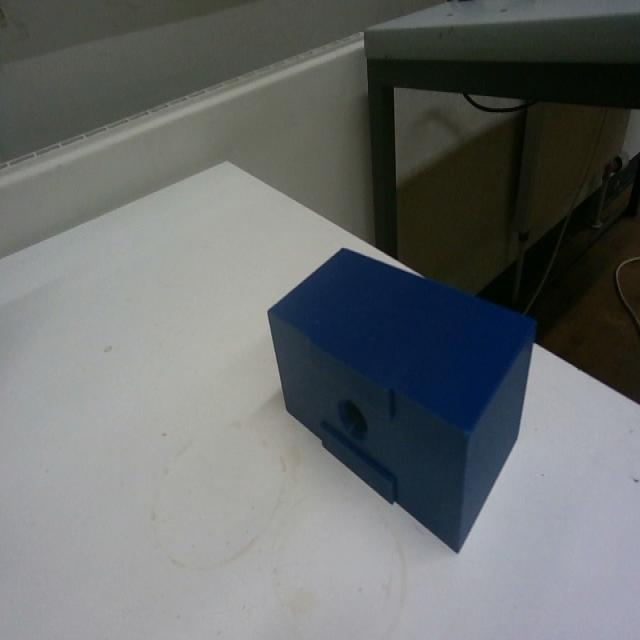Blue Cuboid: (264, 242, 538, 554)
